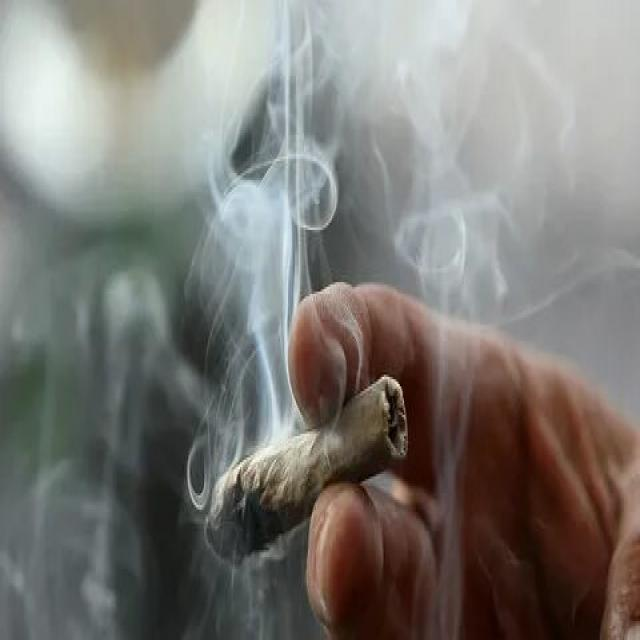smoke: (193, 363, 420, 590)
